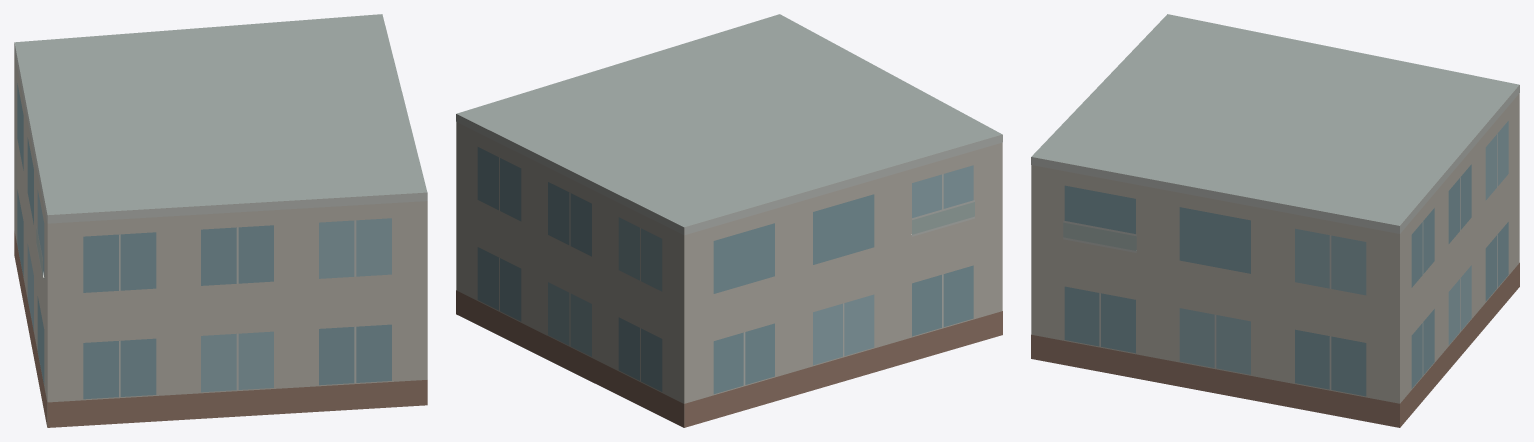
The model's file is survey-upis-32789240.glb.
3 views of the same model, side by side, from view 1: azimuth 30°, elevation 25°; view 2: azimuth 150°, elevation 25°; view 3: azimuth 270°, elevation 25° (orthographic). The views are drawn at different scales.
Visible parts, largest first — view 1: survey-upis-32789240.tmp; view 2: survey-upis-32789240.tmp; view 3: survey-upis-32789240.tmp.
Boxes of the visible parts, <box> form: survey-upis-32789240.tmp: <box>14,14,427,427</box>; survey-upis-32789240.tmp: <box>456,14,1002,427</box>; survey-upis-32789240.tmp: <box>1031,14,1519,427</box>.
Bounding box in the file's own units: 13.74 × 6.1 × 13.39.
